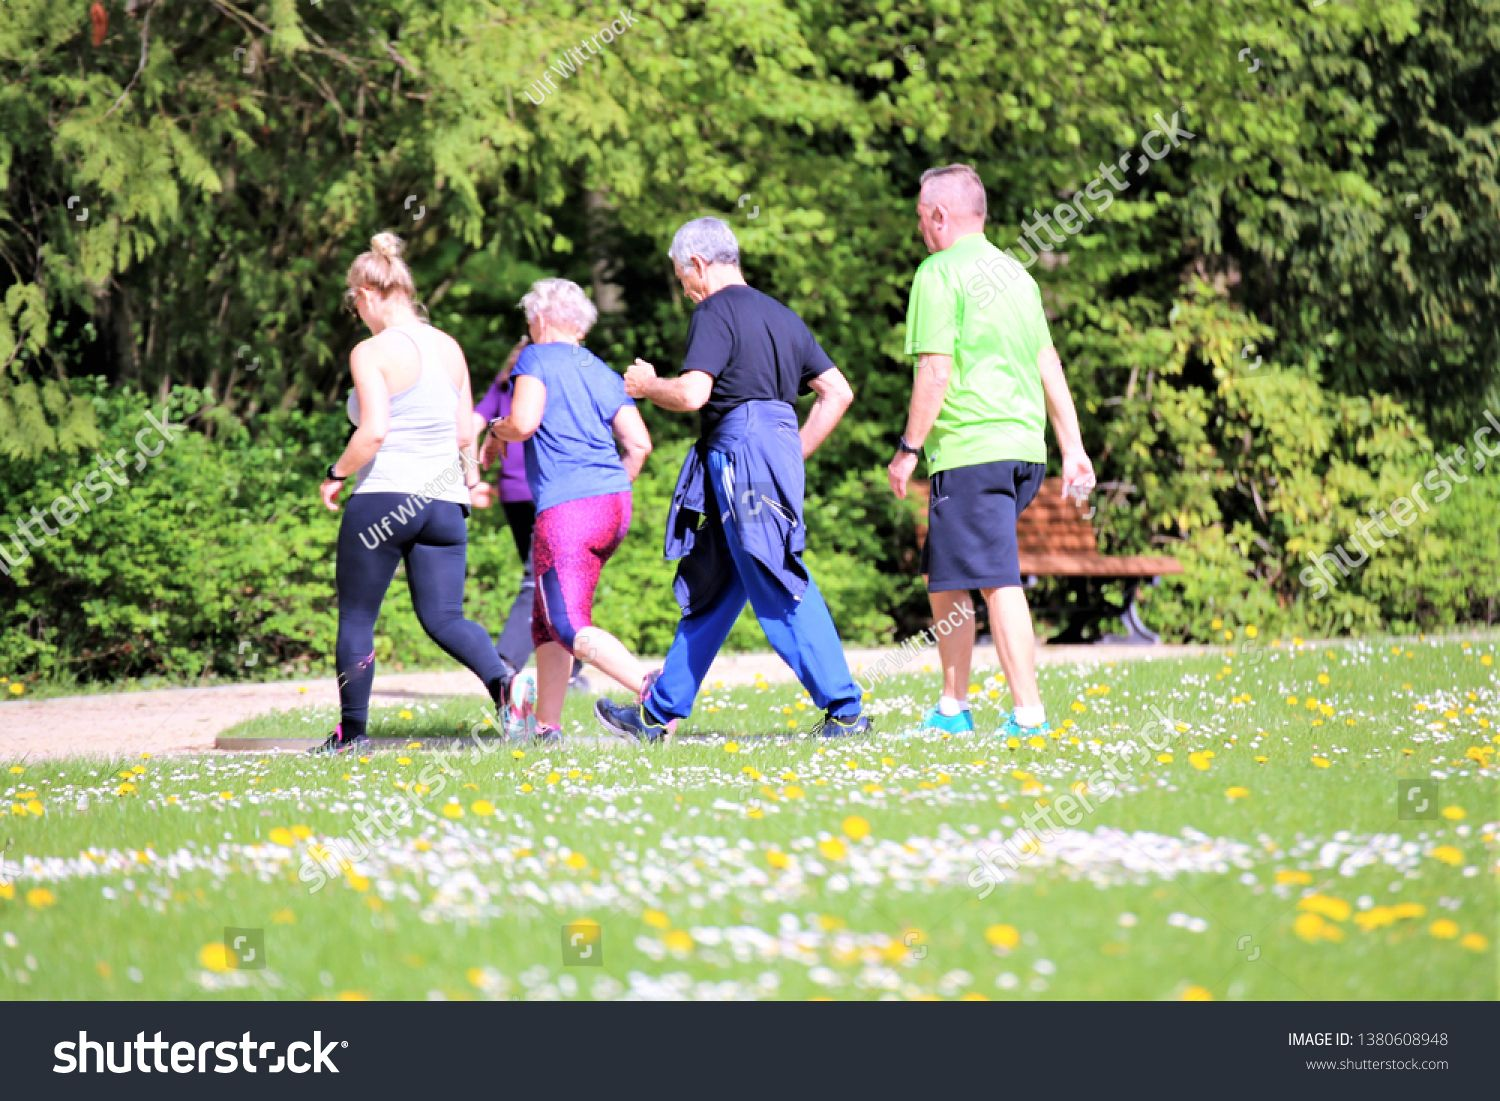person: (587, 203, 877, 751), (873, 153, 1110, 751), (320, 223, 530, 759), (477, 259, 665, 771)
